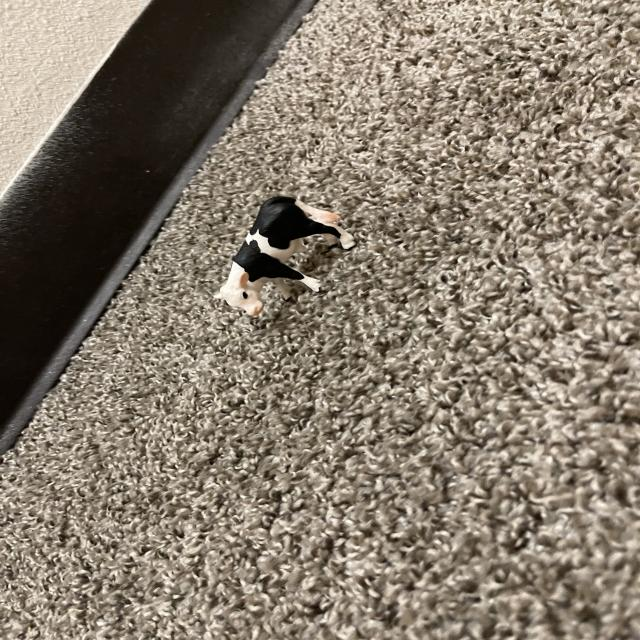cow: (209, 179, 364, 345)
person: (292, 213, 296, 218)
